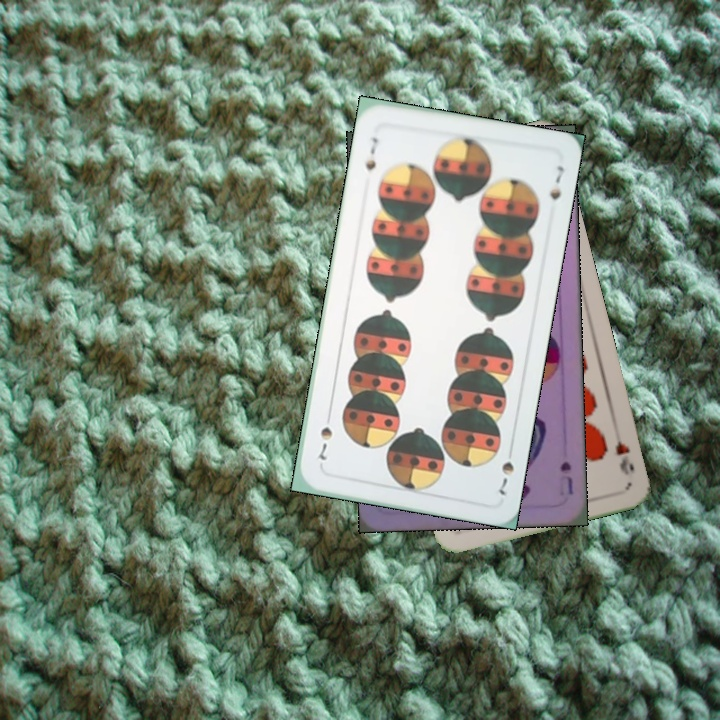H9: (610, 425, 637, 478)
S7: (494, 457, 517, 498), (361, 133, 381, 177)
SU: (556, 457, 575, 497)
